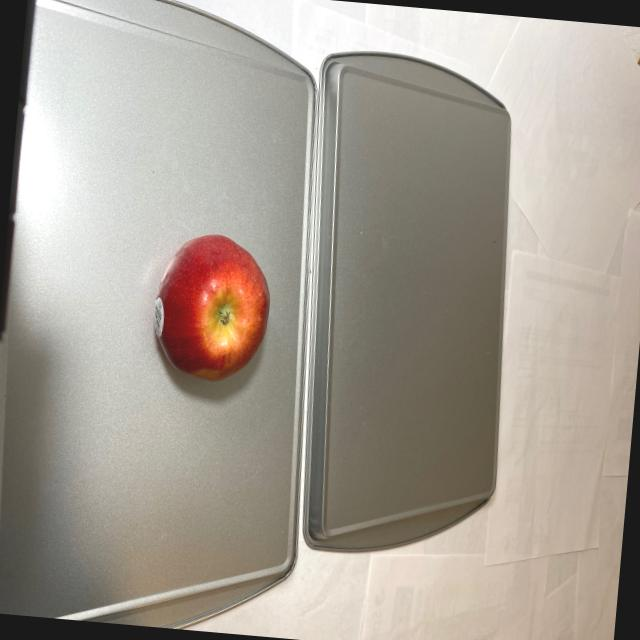apple: (146, 228, 278, 390)
